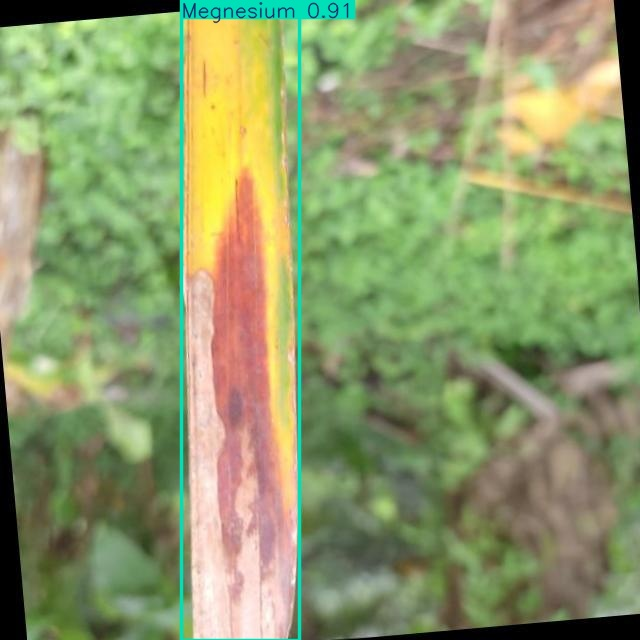Megnesium: (181, 0, 299, 640)
